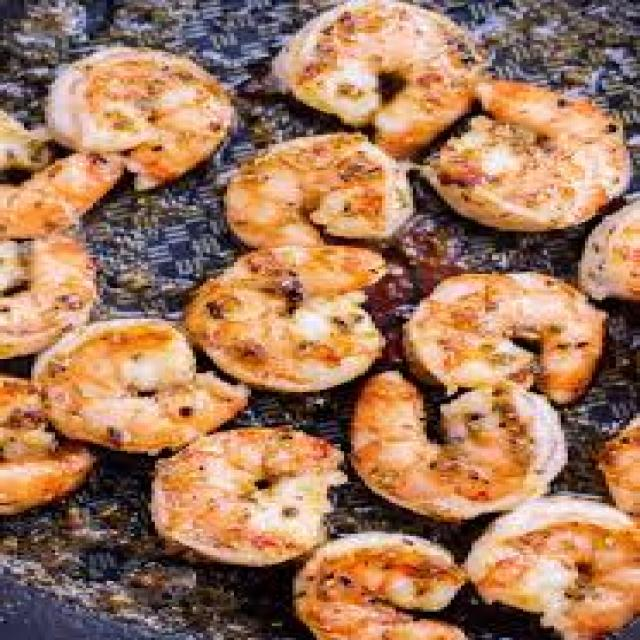Spinach bagged/loose: (429, 83, 628, 225), (188, 246, 377, 382), (270, 0, 464, 129), (402, 270, 599, 392), (351, 391, 568, 499), (42, 319, 226, 444), (144, 433, 320, 560), (471, 507, 636, 640), (50, 45, 232, 158), (216, 136, 411, 238), (293, 536, 454, 640)
